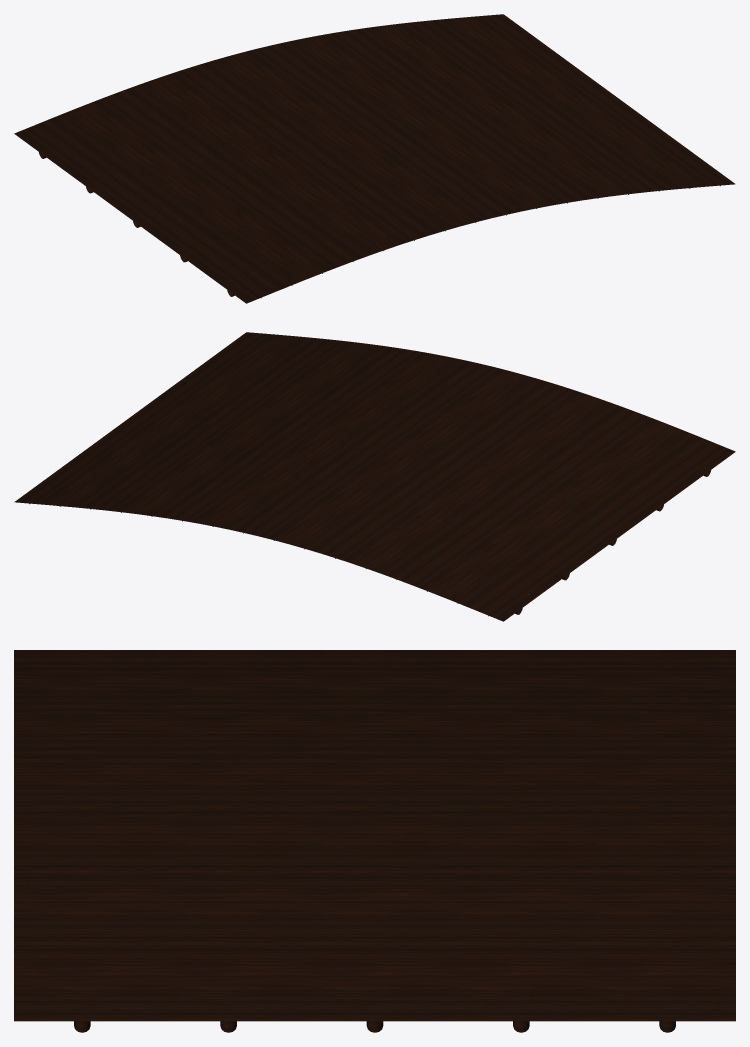
File: roof.glb
The picture shows the model from 3 angles, top to bottom: view 1: azimuth 30°, elevation 25°; view 2: azimuth 150°, elevation 25°; view 3: azimuth 270°, elevation 25°; orthographic projection. The views are drawn at different scales.
Visible parts, largest first — view 1: pirate-captains-cabin roof; view 2: pirate-captains-cabin roof; view 3: pirate-captains-cabin roof.
Boxes of the visible parts, x1,y1,x2,y2 form: pirate-captains-cabin roof: (14,14,735,303); pirate-captains-cabin roof: (14,332,735,621); pirate-captains-cabin roof: (14,650,735,1032).
Size of the model in its own units: 9 by 0.6339 by 7.4.
Materials: 2 (1 with a texture image).
